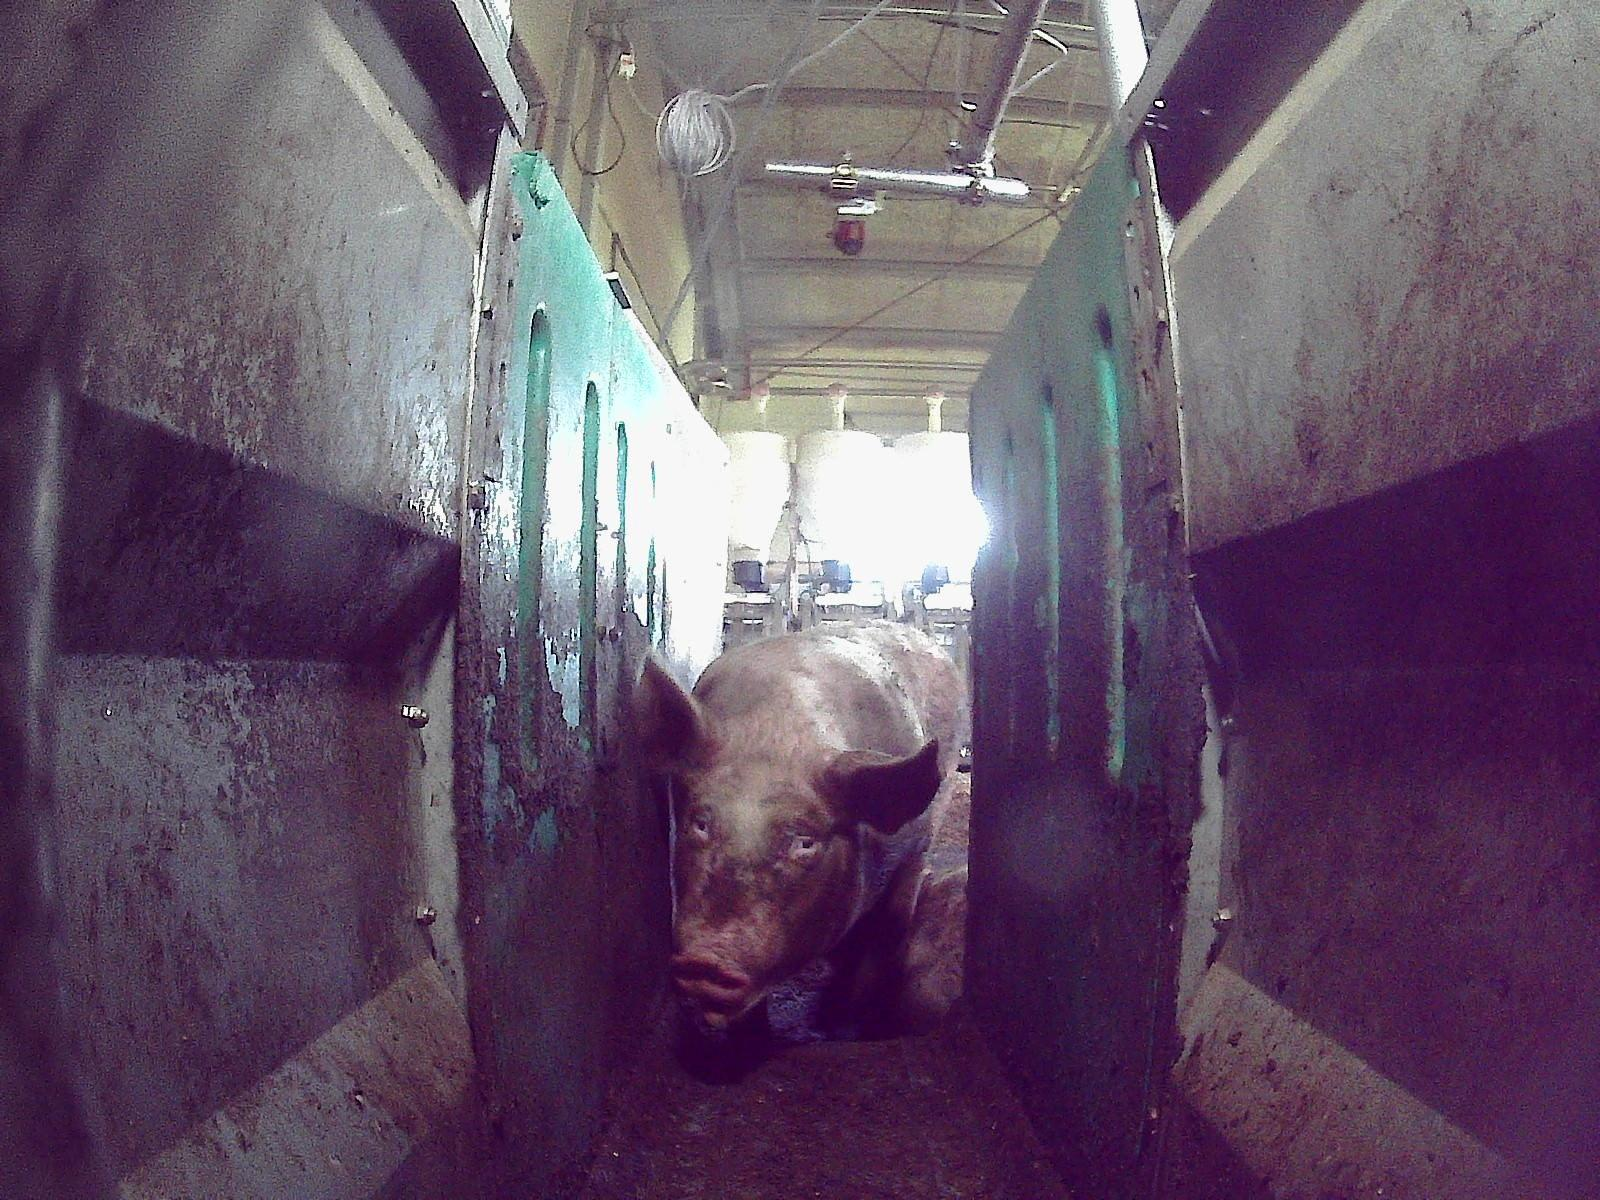Face: (658, 732, 859, 1020)
